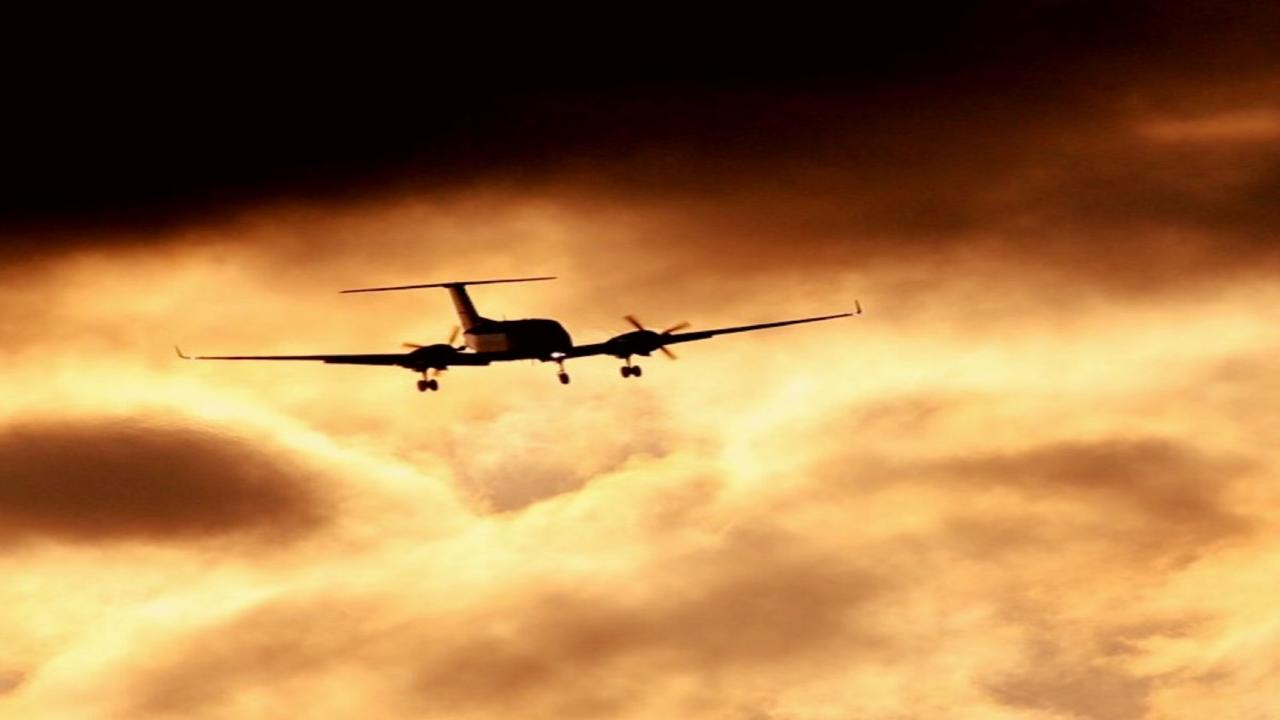Airplane: (154, 263, 889, 403)
